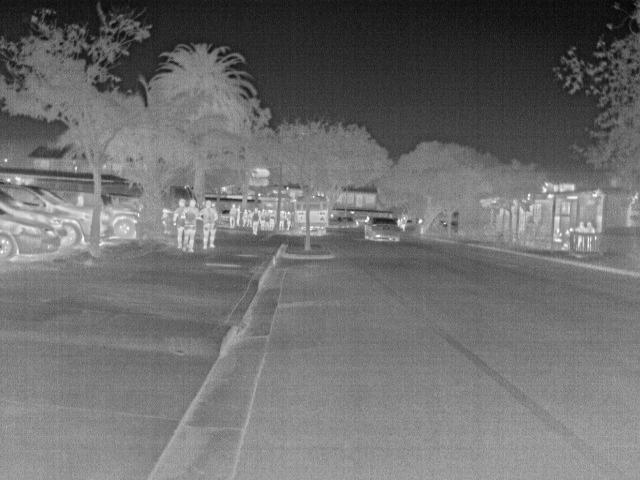car: (1, 180, 93, 249), (1, 207, 63, 264), (104, 205, 140, 239), (364, 214, 402, 244)
person: (183, 198, 202, 253), (201, 199, 219, 248), (175, 196, 190, 248), (250, 207, 266, 236), (226, 201, 240, 227), (581, 220, 597, 236), (553, 225, 567, 242), (575, 220, 588, 234)
